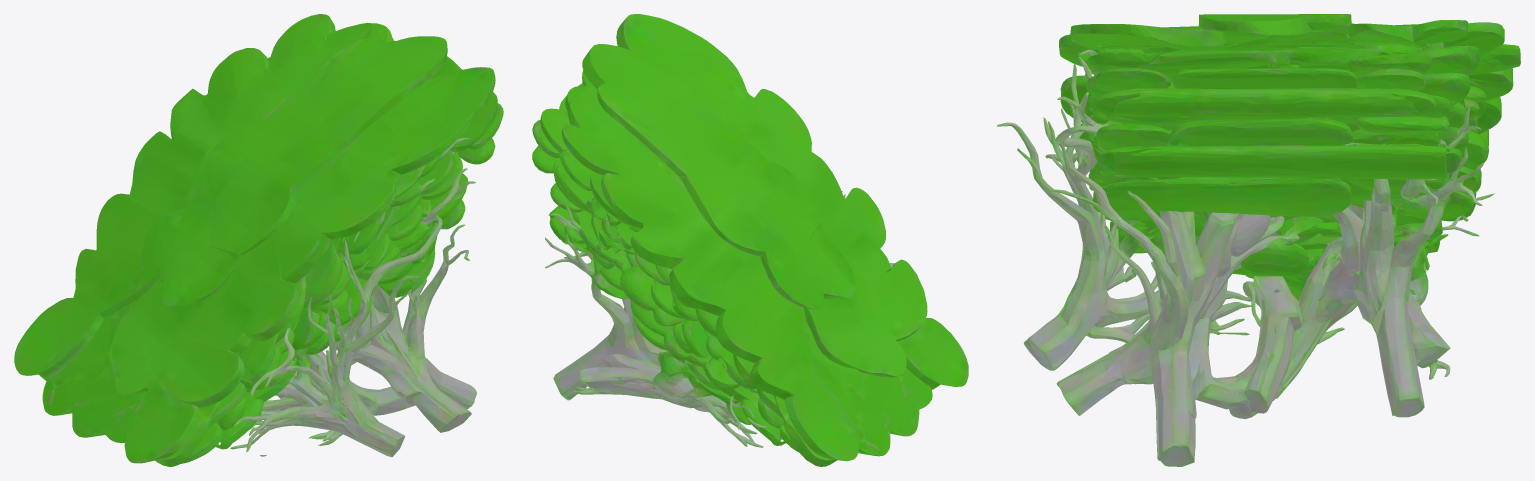
Rendered from bush-large.glb.
The picture shows the model from 3 angles, left to right: view 1: azimuth 30°, elevation 25°; view 2: azimuth 150°, elevation 25°; view 3: azimuth 270°, elevation 25°; orthographic projection. The views are drawn at different scales.
Visible parts, largest first — view 1: geometry_0; view 2: geometry_0; view 3: geometry_0.
Part boxes in pixels (<box>): geometry_0: <box>14,14,503,466</box>; geometry_0: <box>532,14,968,466</box>; geometry_0: <box>997,14,1520,466</box>.
Bounding box in the file's own units: 1 × 0.9541 × 0.9583.
Materials: 1 (1 with a texture image).
